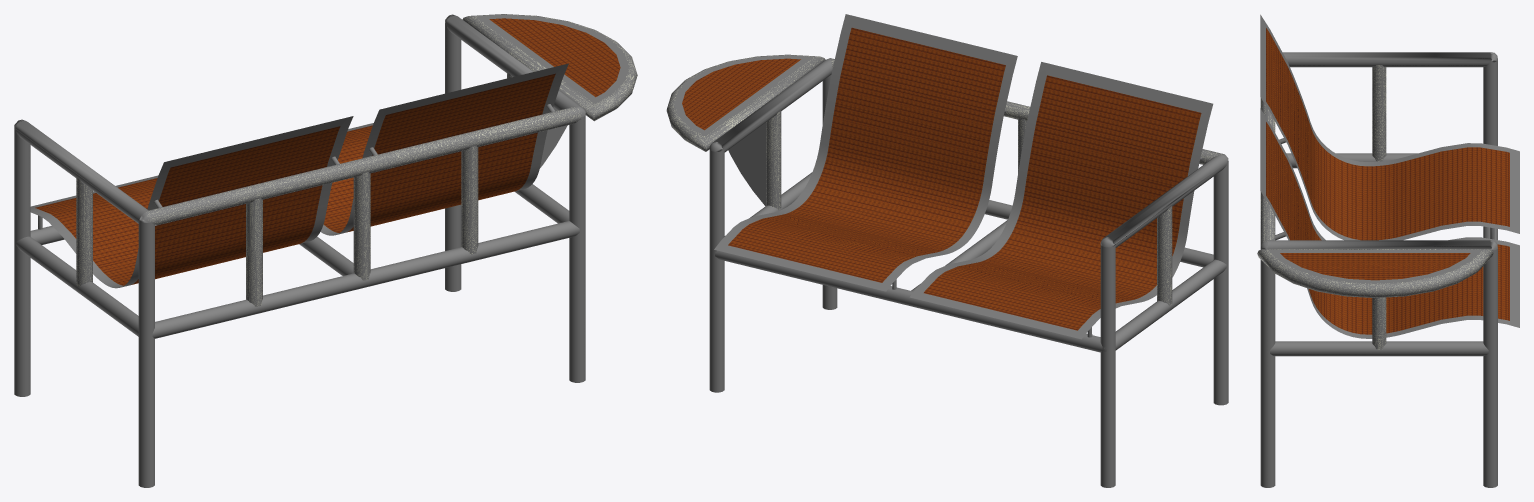
The picture shows the model from 3 angles, left to right: view 1: azimuth 30°, elevation 25°; view 2: azimuth 150°, elevation 25°; view 3: azimuth 270°, elevation 25°; orthographic projection. The views are drawn at different scales.
Visible parts, largest first — view 1: mesh9_mesh9-geometry, mesh1_mesh1-geometry, mesh5_mesh5-geometry, mesh10_mesh10-geometry, mesh11_mesh11-geometry, mesh6_mesh6-geometry, mesh4_mesh4-geometry, mesh3_mesh3-geometry; view 2: mesh9_mesh9-geometry, mesh1_mesh1-geometry, mesh5_mesh5-geometry, mesh10_mesh10-geometry, mesh6_mesh6-geometry, mesh4_mesh4-geometry, mesh3_mesh3-geometry, mesh12_mesh12-geometry, mesh11_mesh11-geometry; view 3: mesh9_mesh9-geometry, mesh10_mesh10-geometry, mesh1_mesh1-geometry, mesh5_mesh5-geometry, mesh4_mesh4-geometry, mesh3_mesh3-geometry, mesh6_mesh6-geometry, mesh11_mesh11-geometry.
Part boxes in pixels (x1,y1,x2,y2): mesh9_mesh9-geometry: (30, 63, 568, 288); mesh1_mesh1-geometry: (14, 24, 585, 487); mesh5_mesh5-geometry: (16, 184, 579, 338); mesh10_mesh10-geometry: (462, 14, 637, 121); mesh11_mesh11-geometry: (146, 106, 581, 225); mesh6_mesh6-geometry: (76, 72, 511, 306); mesh4_mesh4-geometry: (14, 119, 150, 223); mesh3_mesh3-geometry: (445, 14, 585, 117); mesh9_mesh9-geometry: (714, 14, 1213, 339); mesh1_mesh1-geometry: (709, 75, 1228, 487); mesh5_mesh5-geometry: (715, 172, 1226, 352); mesh10_mesh10-geometry: (666, 54, 825, 151); mesh6_mesh6-geometry: (766, 110, 1172, 305); mesh4_mesh4-geometry: (1100, 154, 1228, 247); mesh3_mesh3-geometry: (709, 58, 832, 152); mesh12_mesh12-geometry: (728, 123, 765, 205); mesh11_mesh11-geometry: (830, 58, 1223, 164); mesh9_mesh9-geometry: (1260, 14, 1519, 338); mesh10_mesh10-geometry: (1257, 249, 1493, 297); mesh1_mesh1-geometry: (1260, 60, 1497, 487); mesh5_mesh5-geometry: (1270, 153, 1497, 356); mesh4_mesh4-geometry: (1282, 52, 1497, 67); mesh3_mesh3-geometry: (1260, 240, 1497, 250); mesh6_mesh6-geometry: (1372, 65, 1386, 349); mesh11_mesh11-geometry: (1260, 98, 1275, 246).
Size of the model in its own units: 0.804 by 0.4586 by 0.3785.
